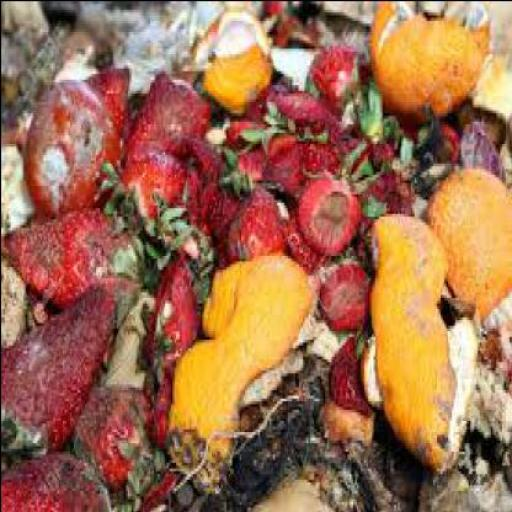biodegradable: (1, 1, 511, 510), (167, 252, 308, 489), (358, 207, 478, 470), (227, 352, 376, 510), (2, 281, 114, 465), (197, 358, 309, 510), (20, 75, 119, 213), (423, 162, 510, 316), (368, 2, 486, 114), (1, 203, 118, 307), (67, 381, 158, 509), (175, 1, 268, 112), (68, 384, 147, 490), (120, 65, 206, 153), (120, 138, 214, 218), (344, 408, 414, 510), (1, 442, 106, 509), (144, 246, 202, 361), (144, 238, 198, 360), (307, 445, 409, 509), (89, 285, 151, 389), (179, 128, 238, 230), (254, 126, 337, 193), (294, 163, 353, 251), (216, 179, 281, 258), (414, 459, 510, 510), (270, 84, 350, 145), (352, 165, 410, 246), (313, 252, 369, 328), (466, 360, 510, 456), (475, 288, 510, 391), (304, 42, 362, 103), (354, 80, 397, 160), (328, 330, 370, 411), (82, 62, 128, 134), (147, 201, 199, 263), (16, 22, 60, 95), (0, 138, 36, 226), (236, 89, 290, 146), (138, 358, 171, 451), (122, 450, 176, 506), (1, 38, 30, 138), (456, 433, 505, 490), (93, 156, 135, 222), (458, 112, 501, 176), (256, 1, 321, 42), (467, 53, 510, 114), (312, 397, 370, 442), (219, 92, 265, 143), (452, 96, 502, 142), (140, 364, 168, 442), (1, 256, 26, 341), (280, 210, 316, 269), (132, 462, 174, 509), (119, 48, 160, 95), (114, 218, 140, 280), (218, 142, 247, 196), (423, 115, 458, 159), (231, 135, 266, 179), (492, 112, 510, 191), (188, 226, 208, 296), (485, 1, 511, 53), (192, 482, 240, 509), (52, 48, 94, 78), (263, 72, 296, 110), (490, 428, 509, 486), (87, 36, 116, 74), (408, 157, 450, 181), (409, 103, 434, 143), (166, 472, 190, 510), (354, 28, 368, 86), (305, 264, 320, 310), (393, 128, 411, 166), (24, 294, 49, 319)
